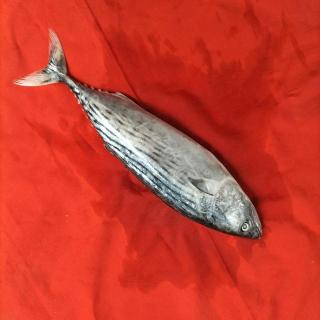Ikan: (14, 33, 273, 247)
